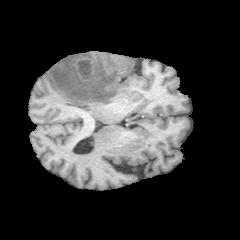glioma: (49, 51, 123, 107)
